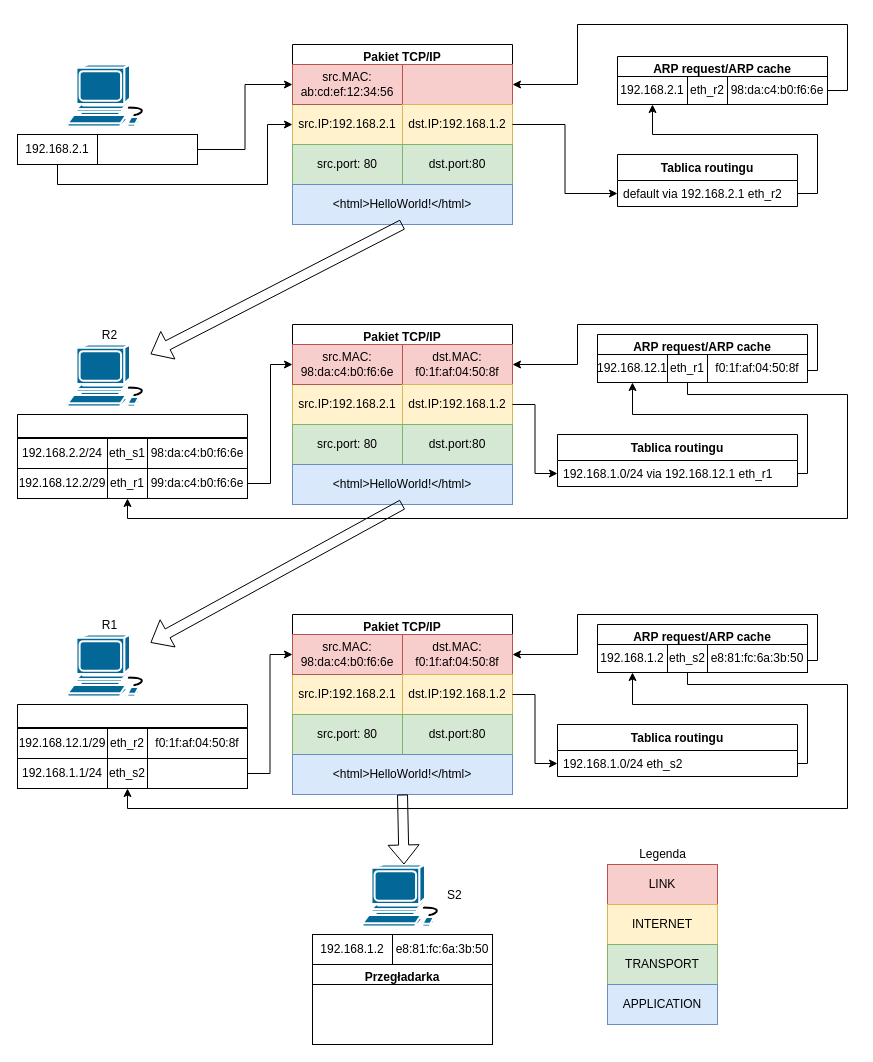
Some shapes in this 873 by 1062 pixel diagram are drawn without their labels. Each missing label, with the box of its shape:
ab:cd:ef:12:34:56: (96, 134, 198, 164)
dst.MAC: 98:da:c4:b0:f6:6e: (402, 64, 512, 104)
f1:1f:af:04:50:8f: (146, 758, 248, 788)
HelloWorld!: (312, 984, 492, 1044)
R1 - Interfejsy: (16, 704, 248, 788)
R2 - Interfejsy: (16, 414, 248, 498)
S1: (66, 63, 151, 127)
